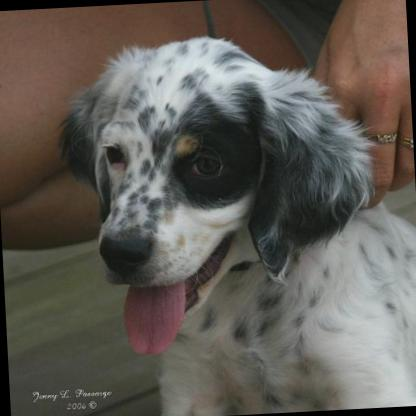English_setter: (51, 21, 416, 416)
